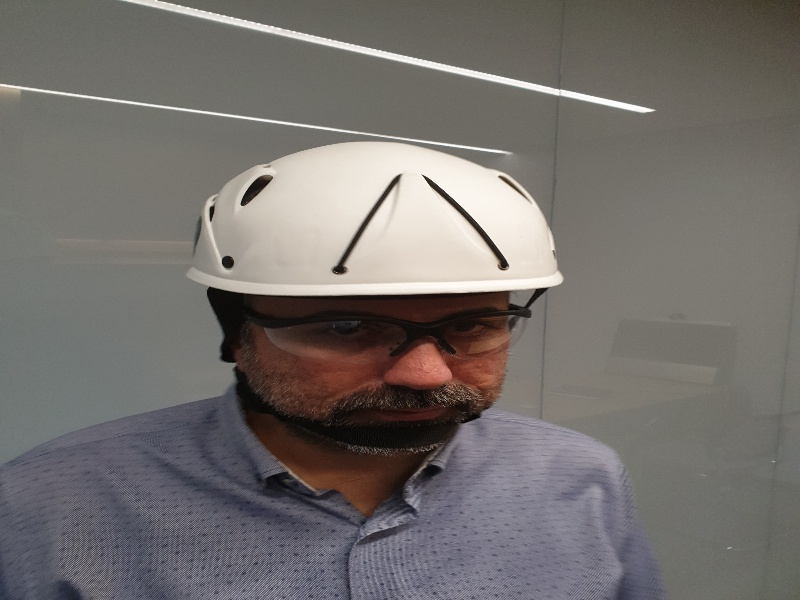Baret: (190, 139, 562, 297)
Gozluk: (226, 304, 530, 354)
